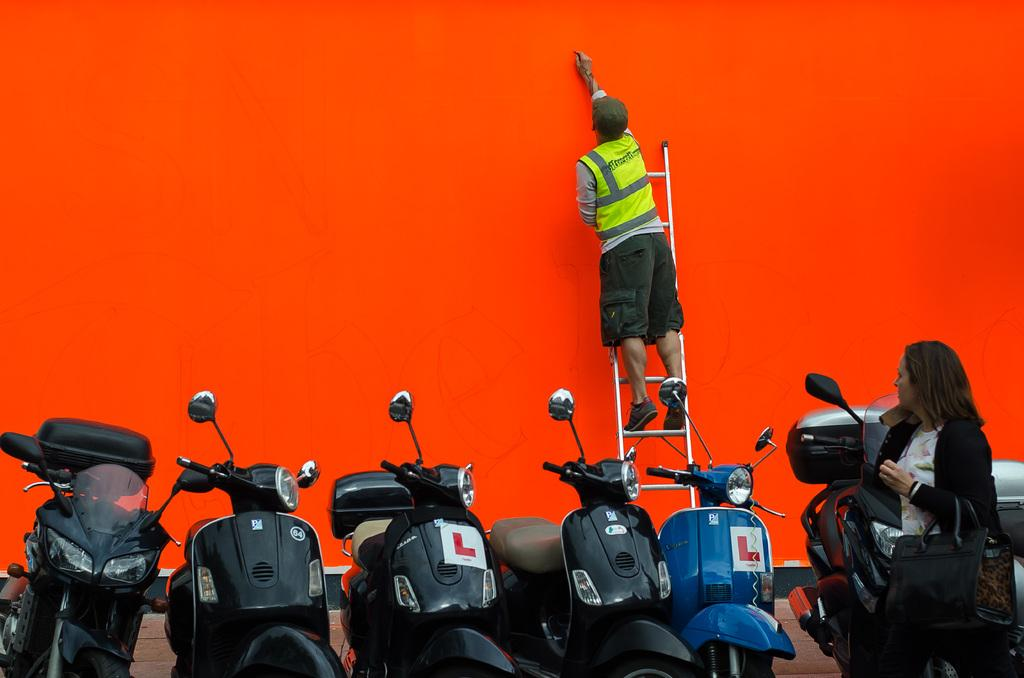Luggage-and-bags: (873, 497, 1016, 643)
